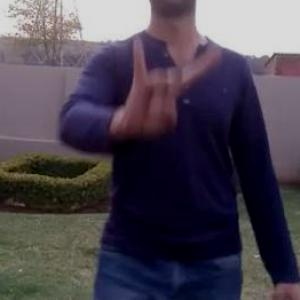takeoff-hand: (124, 25, 223, 143)
